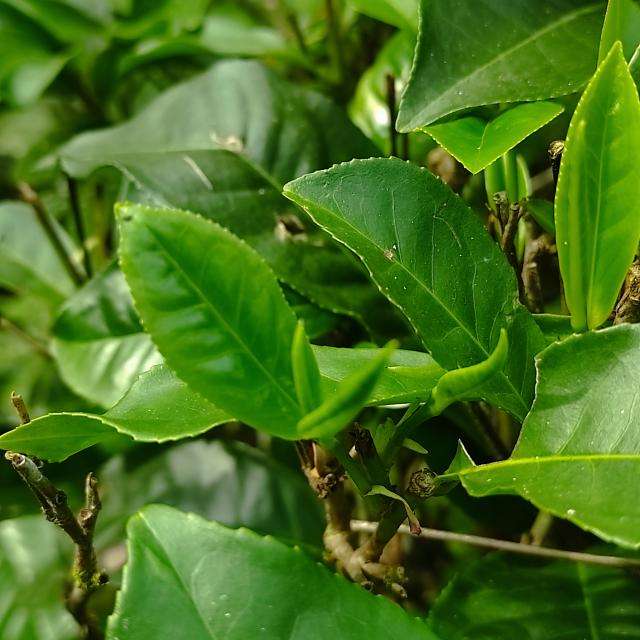unopened_leaf: (294, 332, 406, 455), (418, 322, 515, 422), (563, 112, 603, 336), (288, 316, 346, 461)
